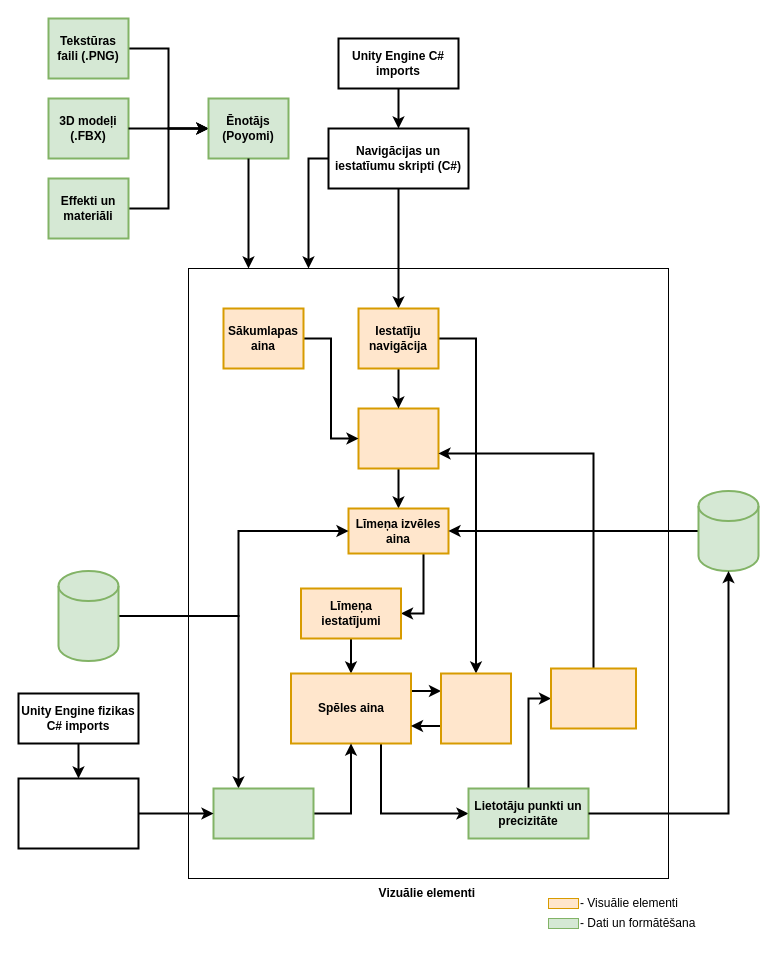
The diagram is 776 pixels wide and 955 high, and some of its shapes have lost their labels. The shapes that lost their labels are listed below. From the top down, each one's centre as x and y in pixels, then its label:
At pixel 398 438: "Lietotāju navigācijas aina".
At pixel 728 531: "Lietotāju dati".
At pixel 88 616: "Līmeņu dati".
At pixel 476 708: "Pauzes aina".
At pixel 593 698: "Līmeņa nobeiguma aina".
At pixel 78 813: "Spēles funkcionālaie skripti C#".
At pixel 263 813: "Visuālo elementu vadītājs".
